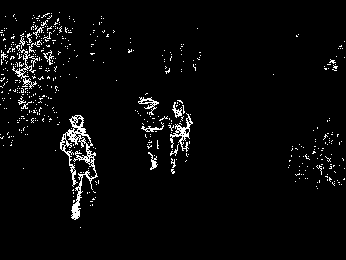person: (57, 113, 101, 222), (133, 91, 167, 172), (166, 99, 193, 176)
